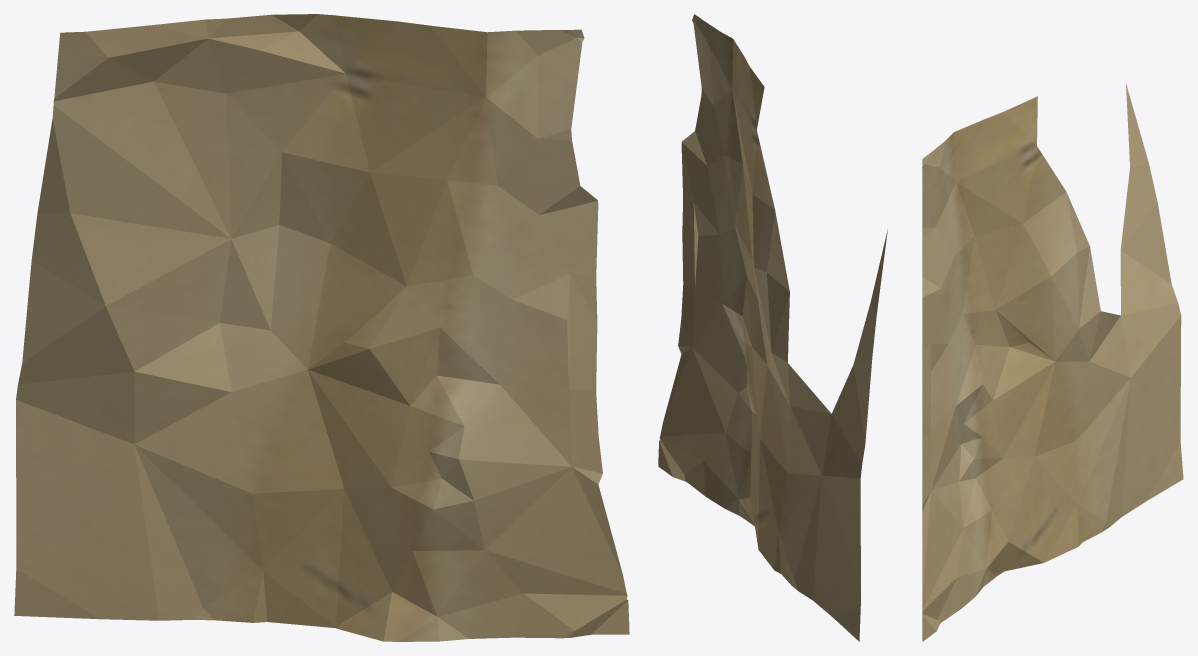
The picture shows the model from 3 angles, left to right: view 1: azimuth 30°, elevation 25°; view 2: azimuth 150°, elevation 25°; view 3: azimuth 270°, elevation 25°; orthographic projection. The views are drawn at different scales.
Size of the model in its own units: 0.6282 by 0.8373 by 0.4259.
Materials: 2 (2 with a texture image).
